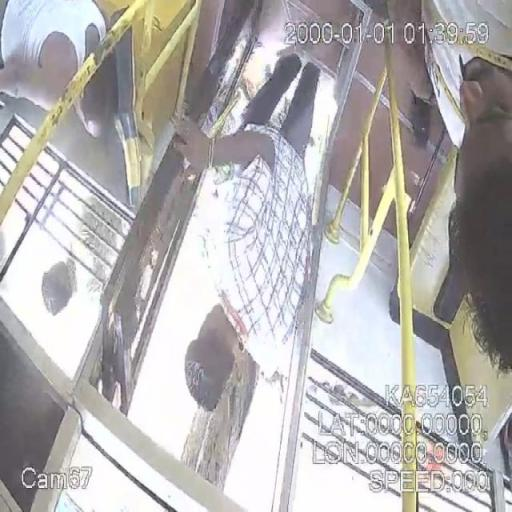persona: (169, 50, 325, 388), (418, 0, 512, 376), (0, 0, 124, 137)
